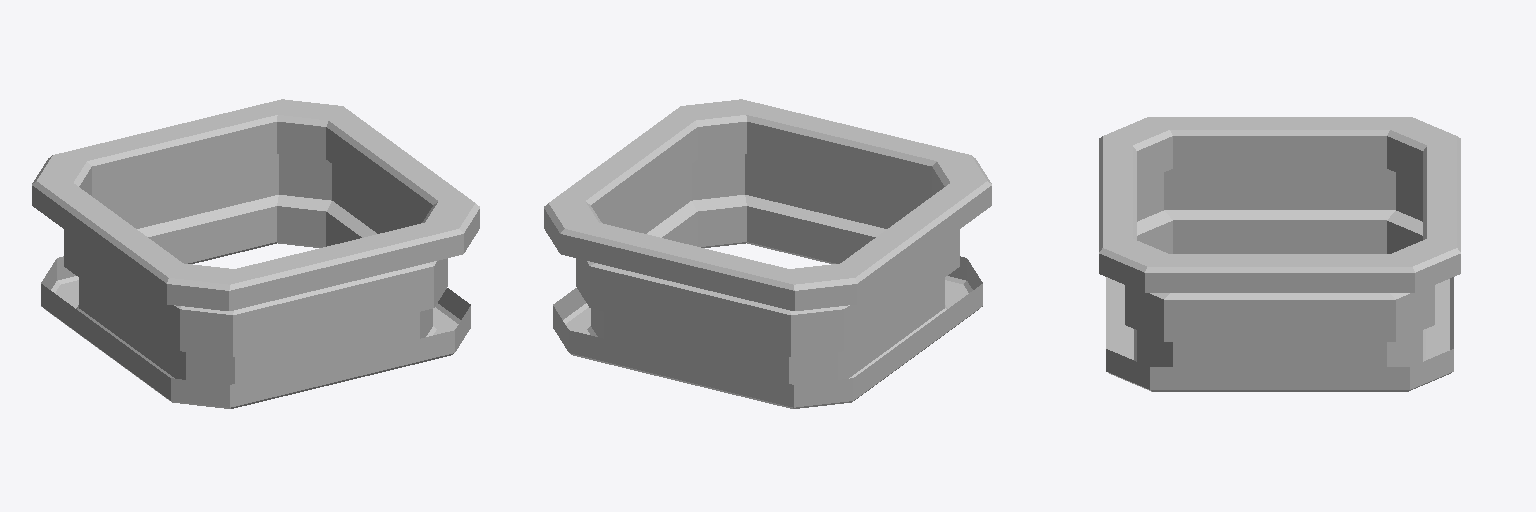
File: Verticle_Door 1.obj
The picture shows the model from 3 angles: view 1: azimuth 30°, elevation 25°; view 2: azimuth 150°, elevation 25°; view 3: azimuth 270°, elevation 25°; orthographic projection.
Visible parts, largest first — view 1: VerticleDoor.001_Cube.031; view 2: VerticleDoor.001_Cube.031; view 3: VerticleDoor.001_Cube.031.
Part boxes in pixels (x1,y1,x2,y2): VerticleDoor.001_Cube.031: (32, 99, 479, 408); VerticleDoor.001_Cube.031: (544, 99, 991, 408); VerticleDoor.001_Cube.031: (1099, 117, 1460, 391).
Bounding box in the file's own units: 3.8 × 1.48 × 3.8.